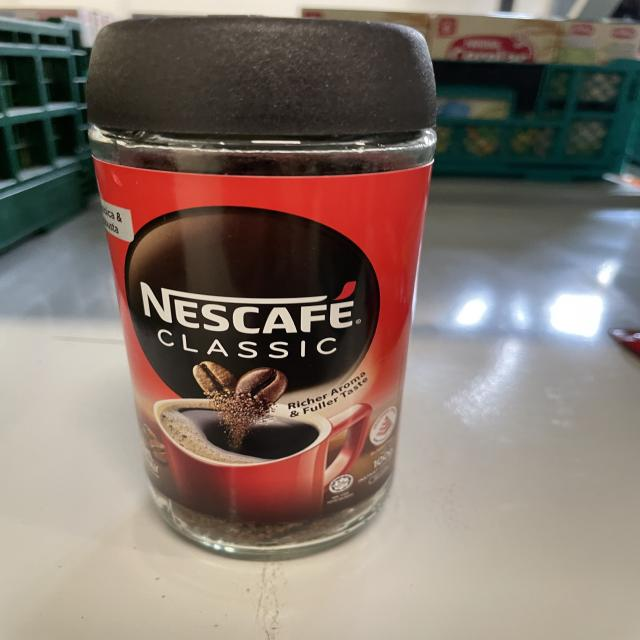object_name: (88, 30, 403, 537)
